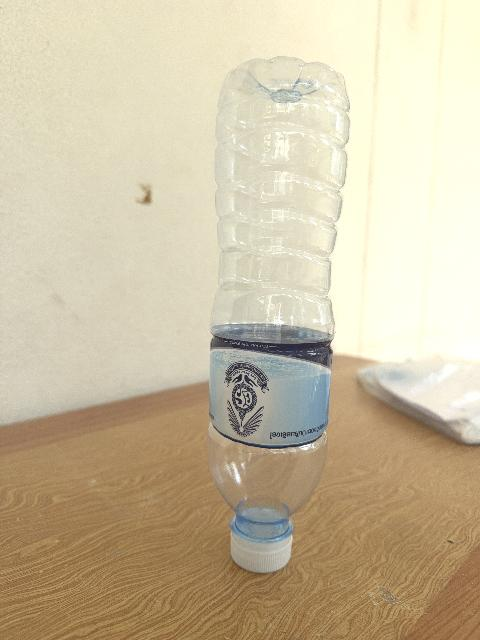bottle: (207, 57, 348, 572)
